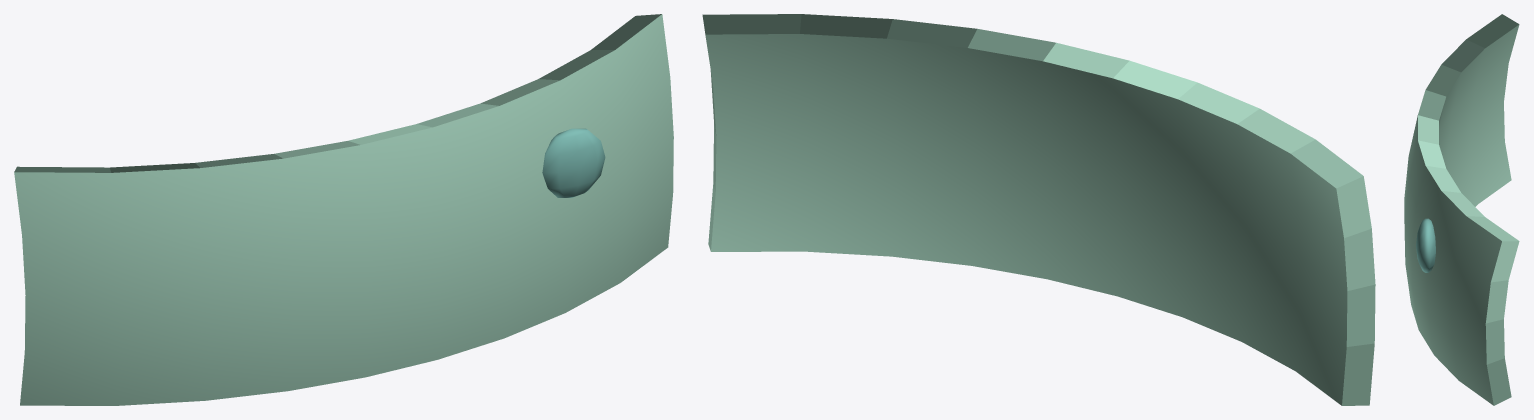
File: nook_inc_eye_mask.glb
The picture shows the model from 3 angles, left to right: view 1: azimuth 30°, elevation 25°; view 2: azimuth 150°, elevation 25°; view 3: azimuth 270°, elevation 25°; orthographic projection. The views are drawn at different scales.
Visible parts, largest first — view 1: nook_inc_eye_mask_Head; view 2: nook_inc_eye_mask_Head; view 3: nook_inc_eye_mask_Head.
Boxes of the visible parts, x1,y1,x2,y2 form: nook_inc_eye_mask_Head: [14, 14, 673, 405]; nook_inc_eye_mask_Head: [702, 14, 1375, 405]; nook_inc_eye_mask_Head: [1404, 14, 1519, 405].
Bounding box in the file's own units: 0.3915 × 0.1323 × 0.0837.
